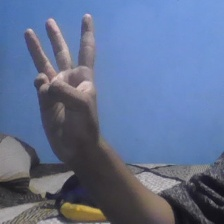W: (19, 11, 103, 163)
